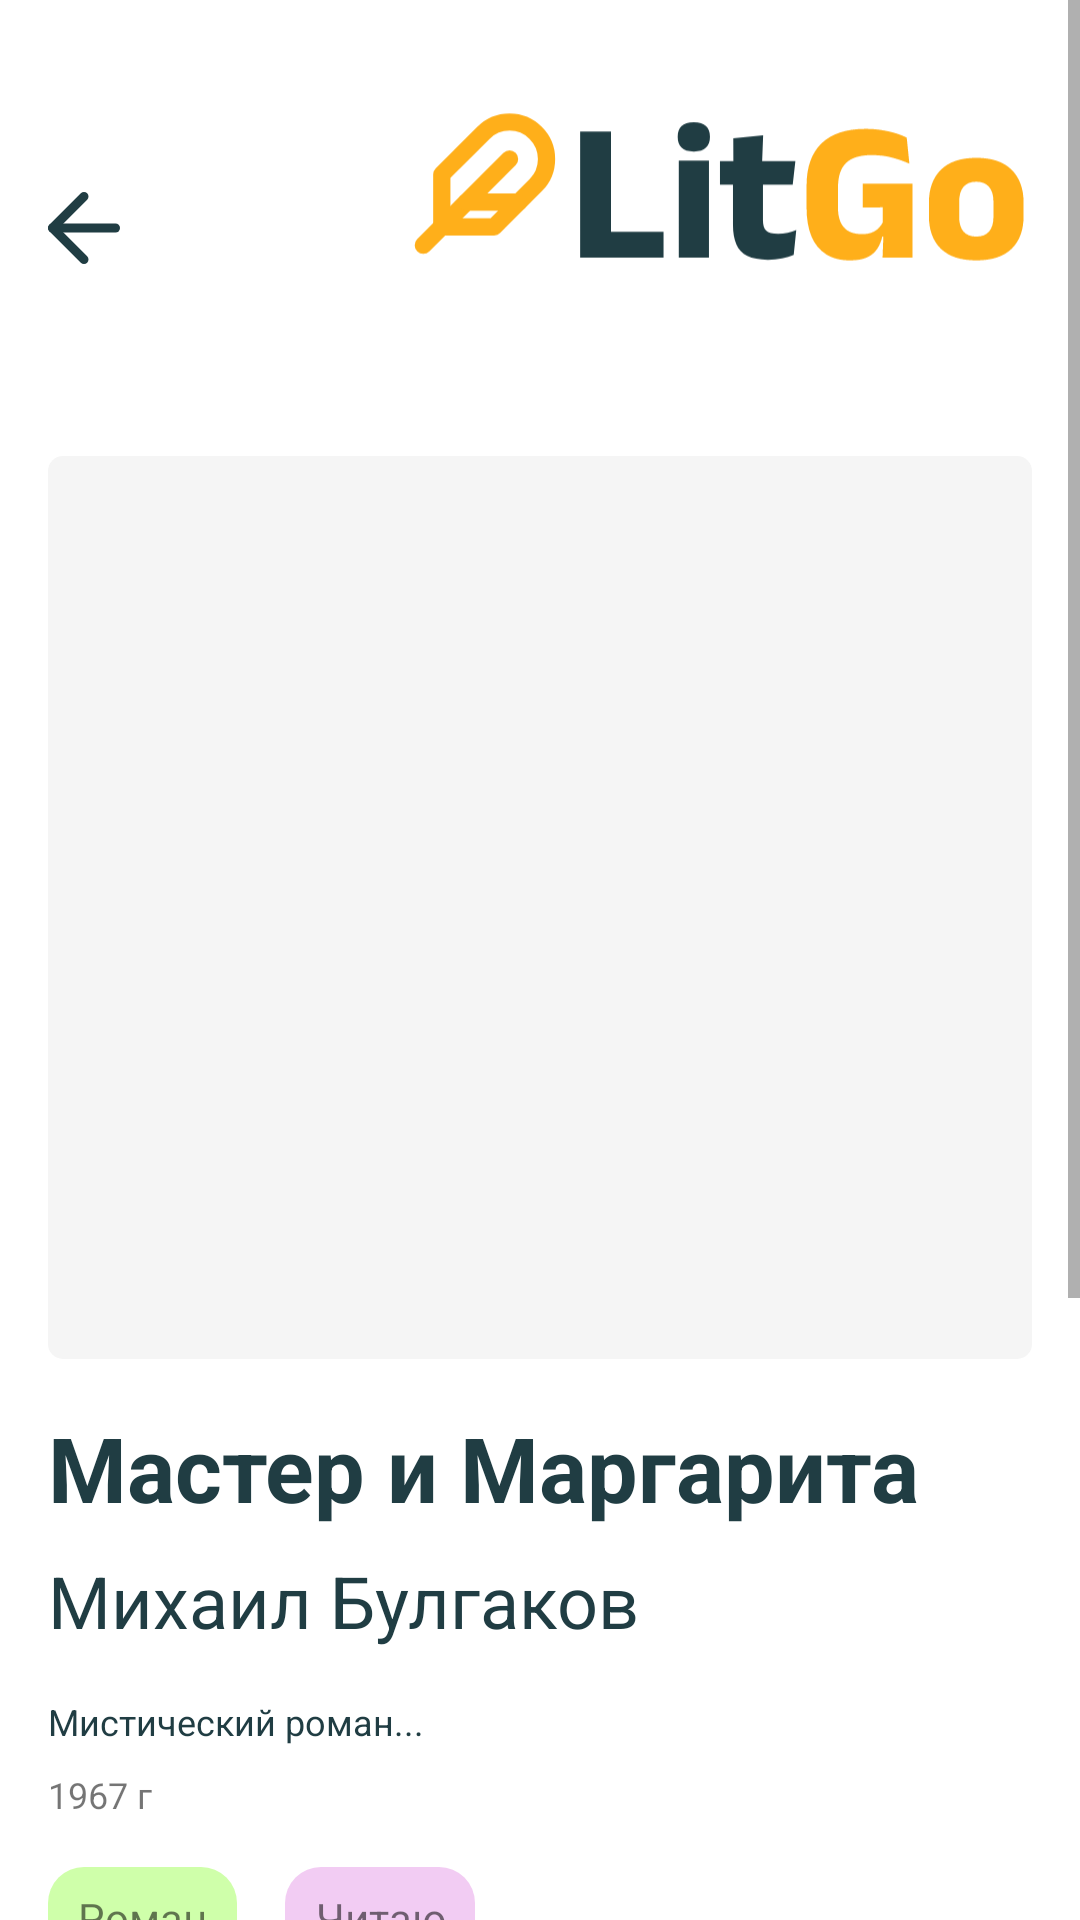

Icon bounding boxes for this 1080 × 1920 phone screenshot, format (x1, y1, x2, y2):
back: (48, 192, 120, 264)
